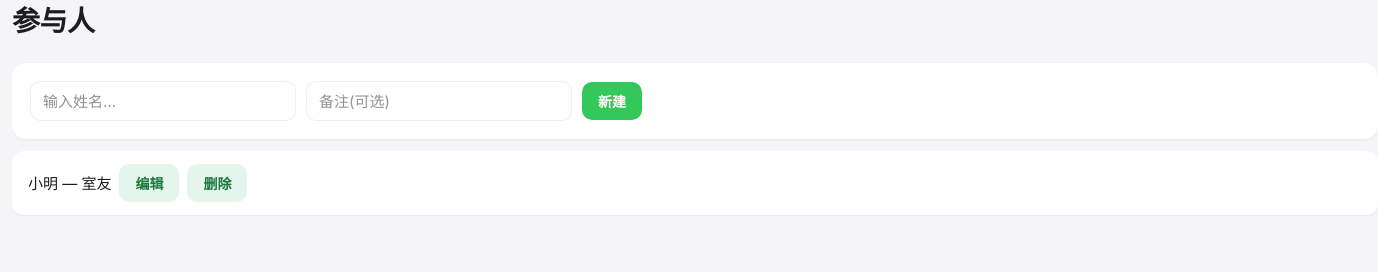
Test case: 参与人管理组件 › 删除被引用的参与人显示错误
Expected: the list item "小明 — 室友 编辑 删除" is shown, [12,151,1377,215]
Click the button "删除" at (218, 183), box [188,164,248,202]
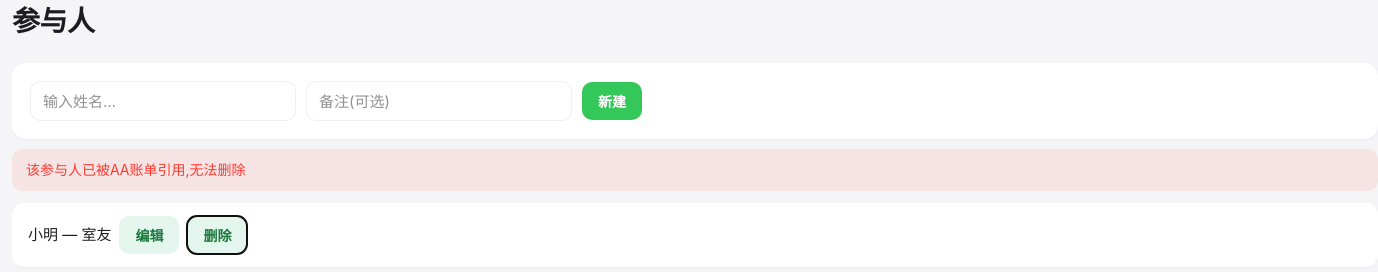
Result: the text "该参与人已被AA账单引用,无法删除" is shown at [12,149,1377,191]
